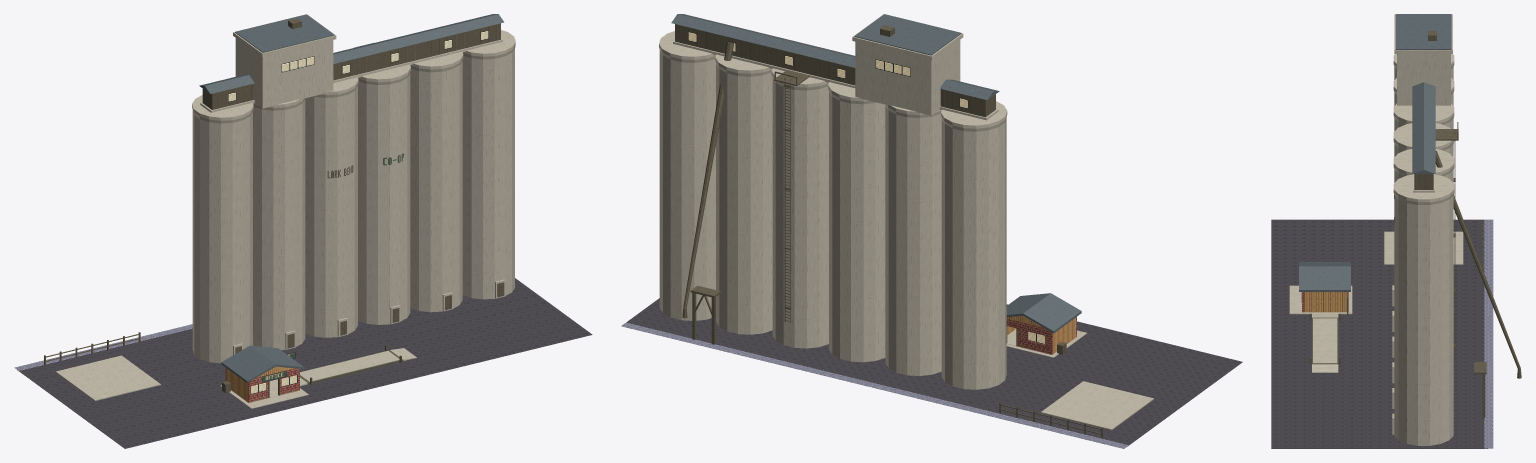
File: lark-bend-1990.glb
3 renders of one model, left to right at view 1: azimuth 30°, elevation 25°; view 2: azimuth 150°, elevation 25°; view 3: azimuth 270°, elevation 25°, orthographic. The views are drawn at different scales.
Parts seen in each view (by area): view 1: concrete_elevator, lot, scale_office; view 2: concrete_elevator, lot, scale_office; view 3: lot, concrete_elevator, scale_office.
Boxes of the visible parts, x1,y1,x2,y2 form: concrete_elevator: [192, 14, 515, 363]; lot: [14, 278, 592, 448]; scale_office: [221, 345, 304, 402]; concrete_elevator: [659, 14, 1007, 389]; lot: [621, 298, 1242, 448]; scale_office: [1006, 293, 1081, 354]; lot: [1271, 219, 1493, 448]; concrete_elevator: [1391, 14, 1521, 445]; scale_office: [1299, 262, 1350, 312].
Size of what is drawn, in the model's own units: 71 by 44.71 by 32.8.
Materials: 9 (9 with a texture image).
